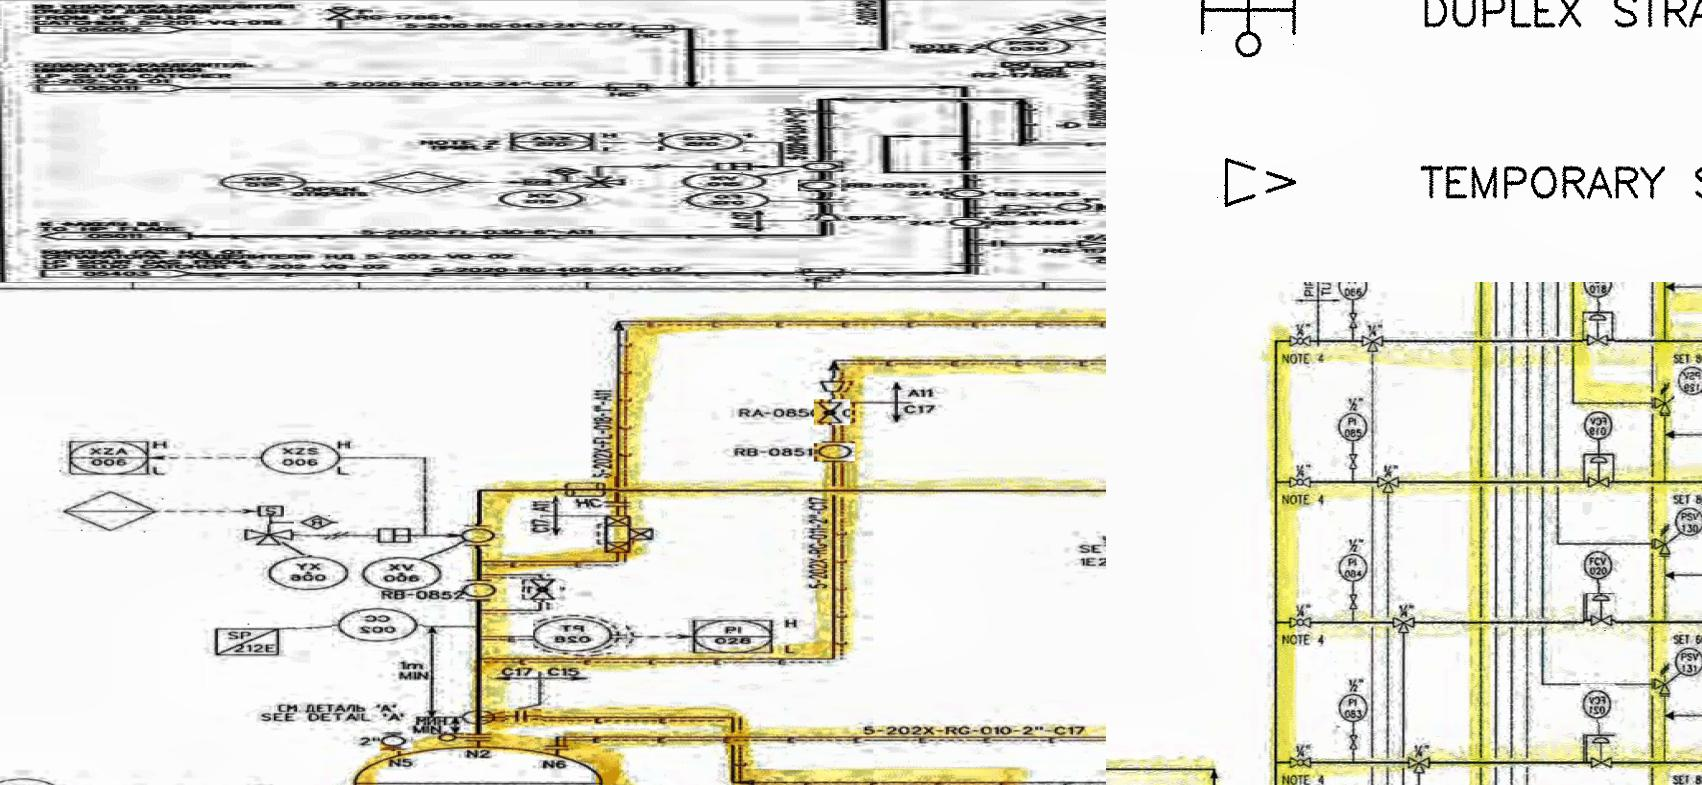3 WAY BALL VALVE: (1372, 472, 1405, 501), (1402, 751, 1433, 776), (1388, 612, 1418, 636), (1360, 330, 1388, 354)
3 WAY GENERAL VALVE: (582, 176, 632, 189)
ANGLE RELIEF VALVE: (1649, 376, 1676, 425), (1651, 515, 1674, 566), (1650, 664, 1677, 704)
BLIND SPADE OPEN: (423, 448, 503, 464)
CONCENTRIC REDUCER: (994, 203, 1038, 212), (806, 213, 848, 221)
DCS ACCESSIBLE: (683, 332, 793, 376), (510, 131, 604, 152)
DIAPHRAGM ACTUATED VALVE: (1585, 594, 1616, 643), (1583, 312, 1614, 355), (1586, 451, 1612, 503), (1585, 735, 1616, 776)
DUPLEX RECEPTACLE: (795, 267, 851, 279)
DUPLEX STRAINER: (1186, 0, 1307, 62)
END CAP: (1057, 122, 1090, 129)
END FLANGED: (532, 456, 583, 479), (507, 428, 545, 444), (801, 197, 854, 204), (943, 151, 988, 156)
FIELD INSTRUMENT: (333, 322, 426, 366), (534, 332, 626, 371), (262, 282, 354, 312), (363, 282, 439, 315), (682, 172, 771, 192), (498, 189, 585, 208), (660, 132, 746, 151), (684, 192, 772, 210), (1579, 405, 1617, 442), (1671, 501, 1702, 544), (1582, 684, 1616, 723), (1333, 550, 1371, 584), (1582, 548, 1616, 584), (1337, 689, 1367, 727), (1335, 410, 1368, 443), (1671, 646, 1702, 678), (1674, 365, 1702, 398), (457, 296, 498, 319), (1334, 282, 1372, 305), (1579, 282, 1618, 302), (380, 448, 412, 469), (940, 188, 994, 200), (799, 179, 843, 192), (793, 160, 840, 172), (942, 217, 990, 228), (1058, 203, 1105, 212)
GATE VALVE: (1338, 446, 1362, 474), (1344, 588, 1364, 615), (1343, 306, 1361, 330), (1345, 732, 1362, 755)
GLOBE VALVE: (523, 295, 562, 320)
HARDWIRED INTERLOCK FIELD: (546, 166, 586, 176)
HARDWIRED INTERLOCK PRIMARY.: (363, 170, 478, 194)
PANEL INSTRUMENT: (213, 173, 308, 191)
PLUG VALVE: (1284, 608, 1318, 634), (1284, 471, 1320, 493), (1283, 330, 1314, 350), (1284, 754, 1317, 772)
SPECIAL PIPING ITEM: (202, 340, 295, 378)
SPEED FLOW METER: (515, 178, 559, 185)
TEMPORARY STRAINER: (1215, 149, 1304, 212)
